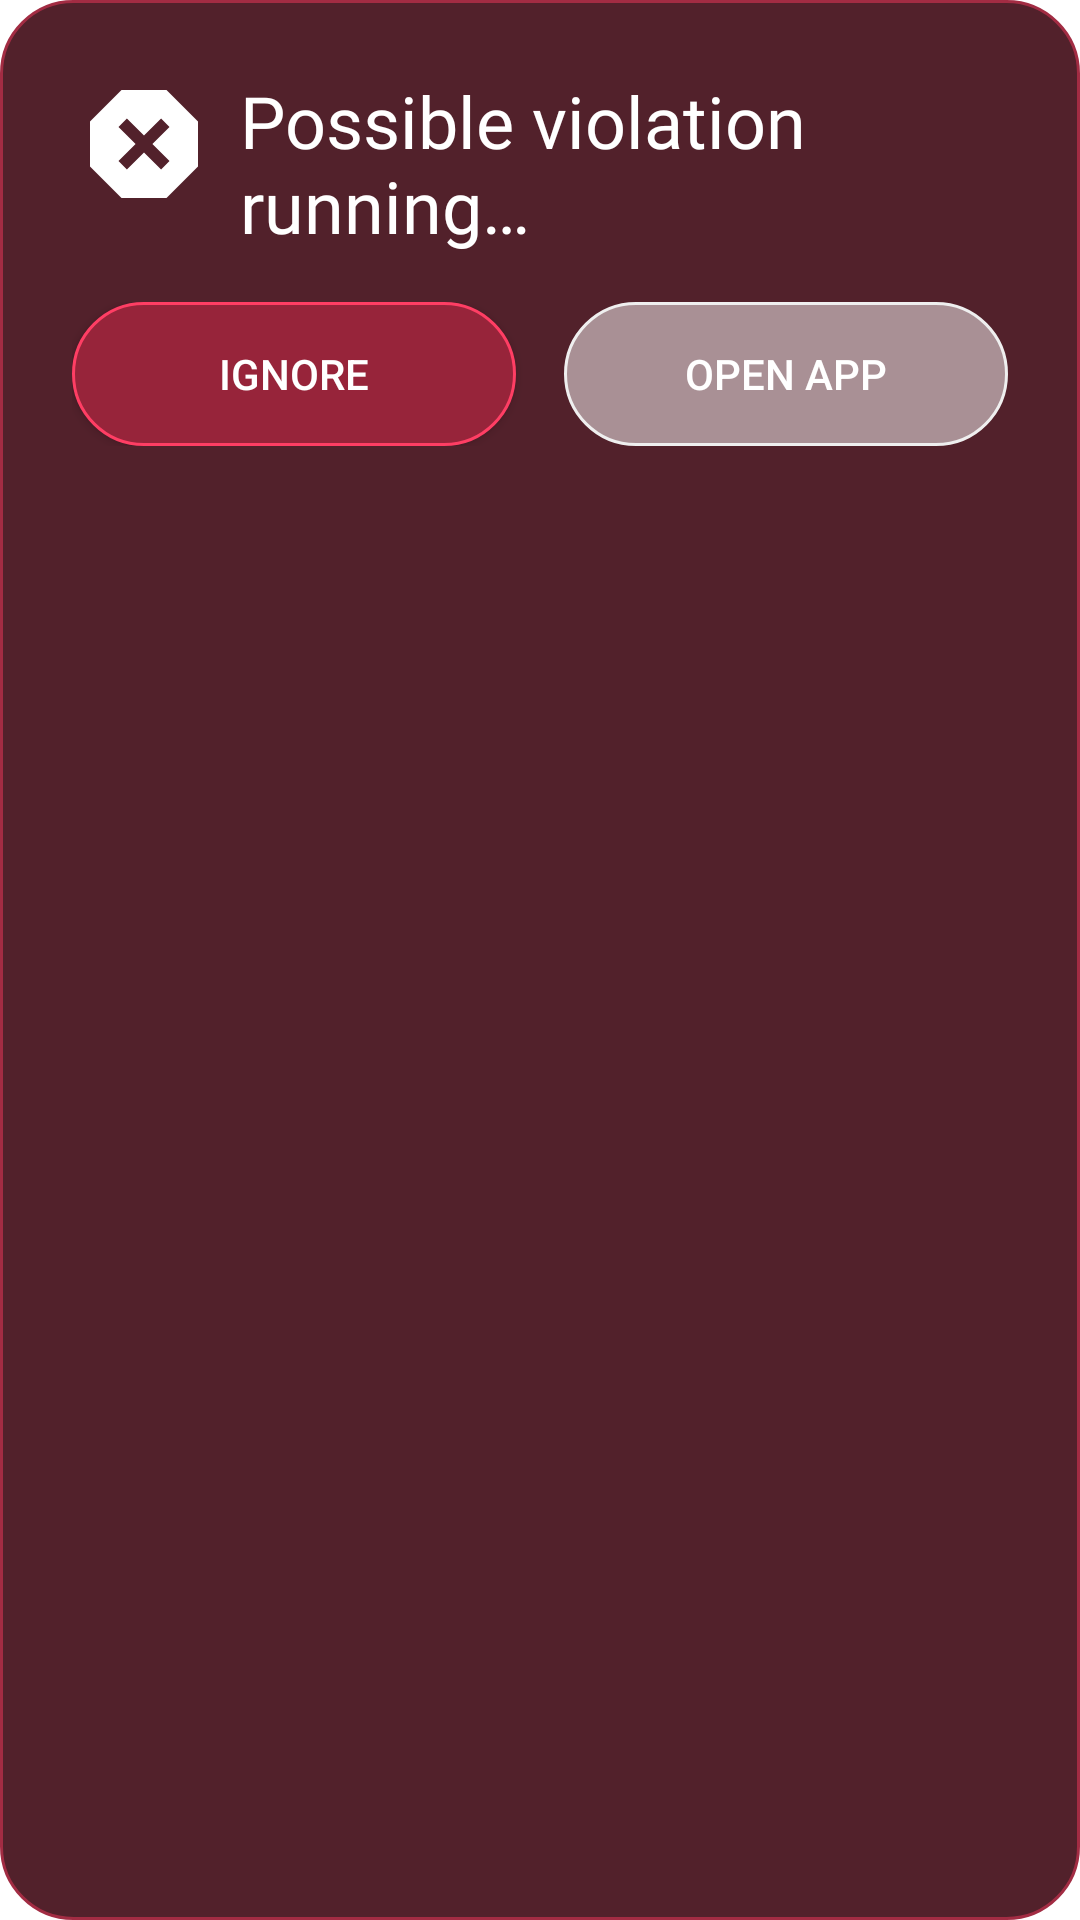

Screen size 1080*1920. Icon name, then its center in pixels as point (x, y):
dangerous: point (144, 144)
